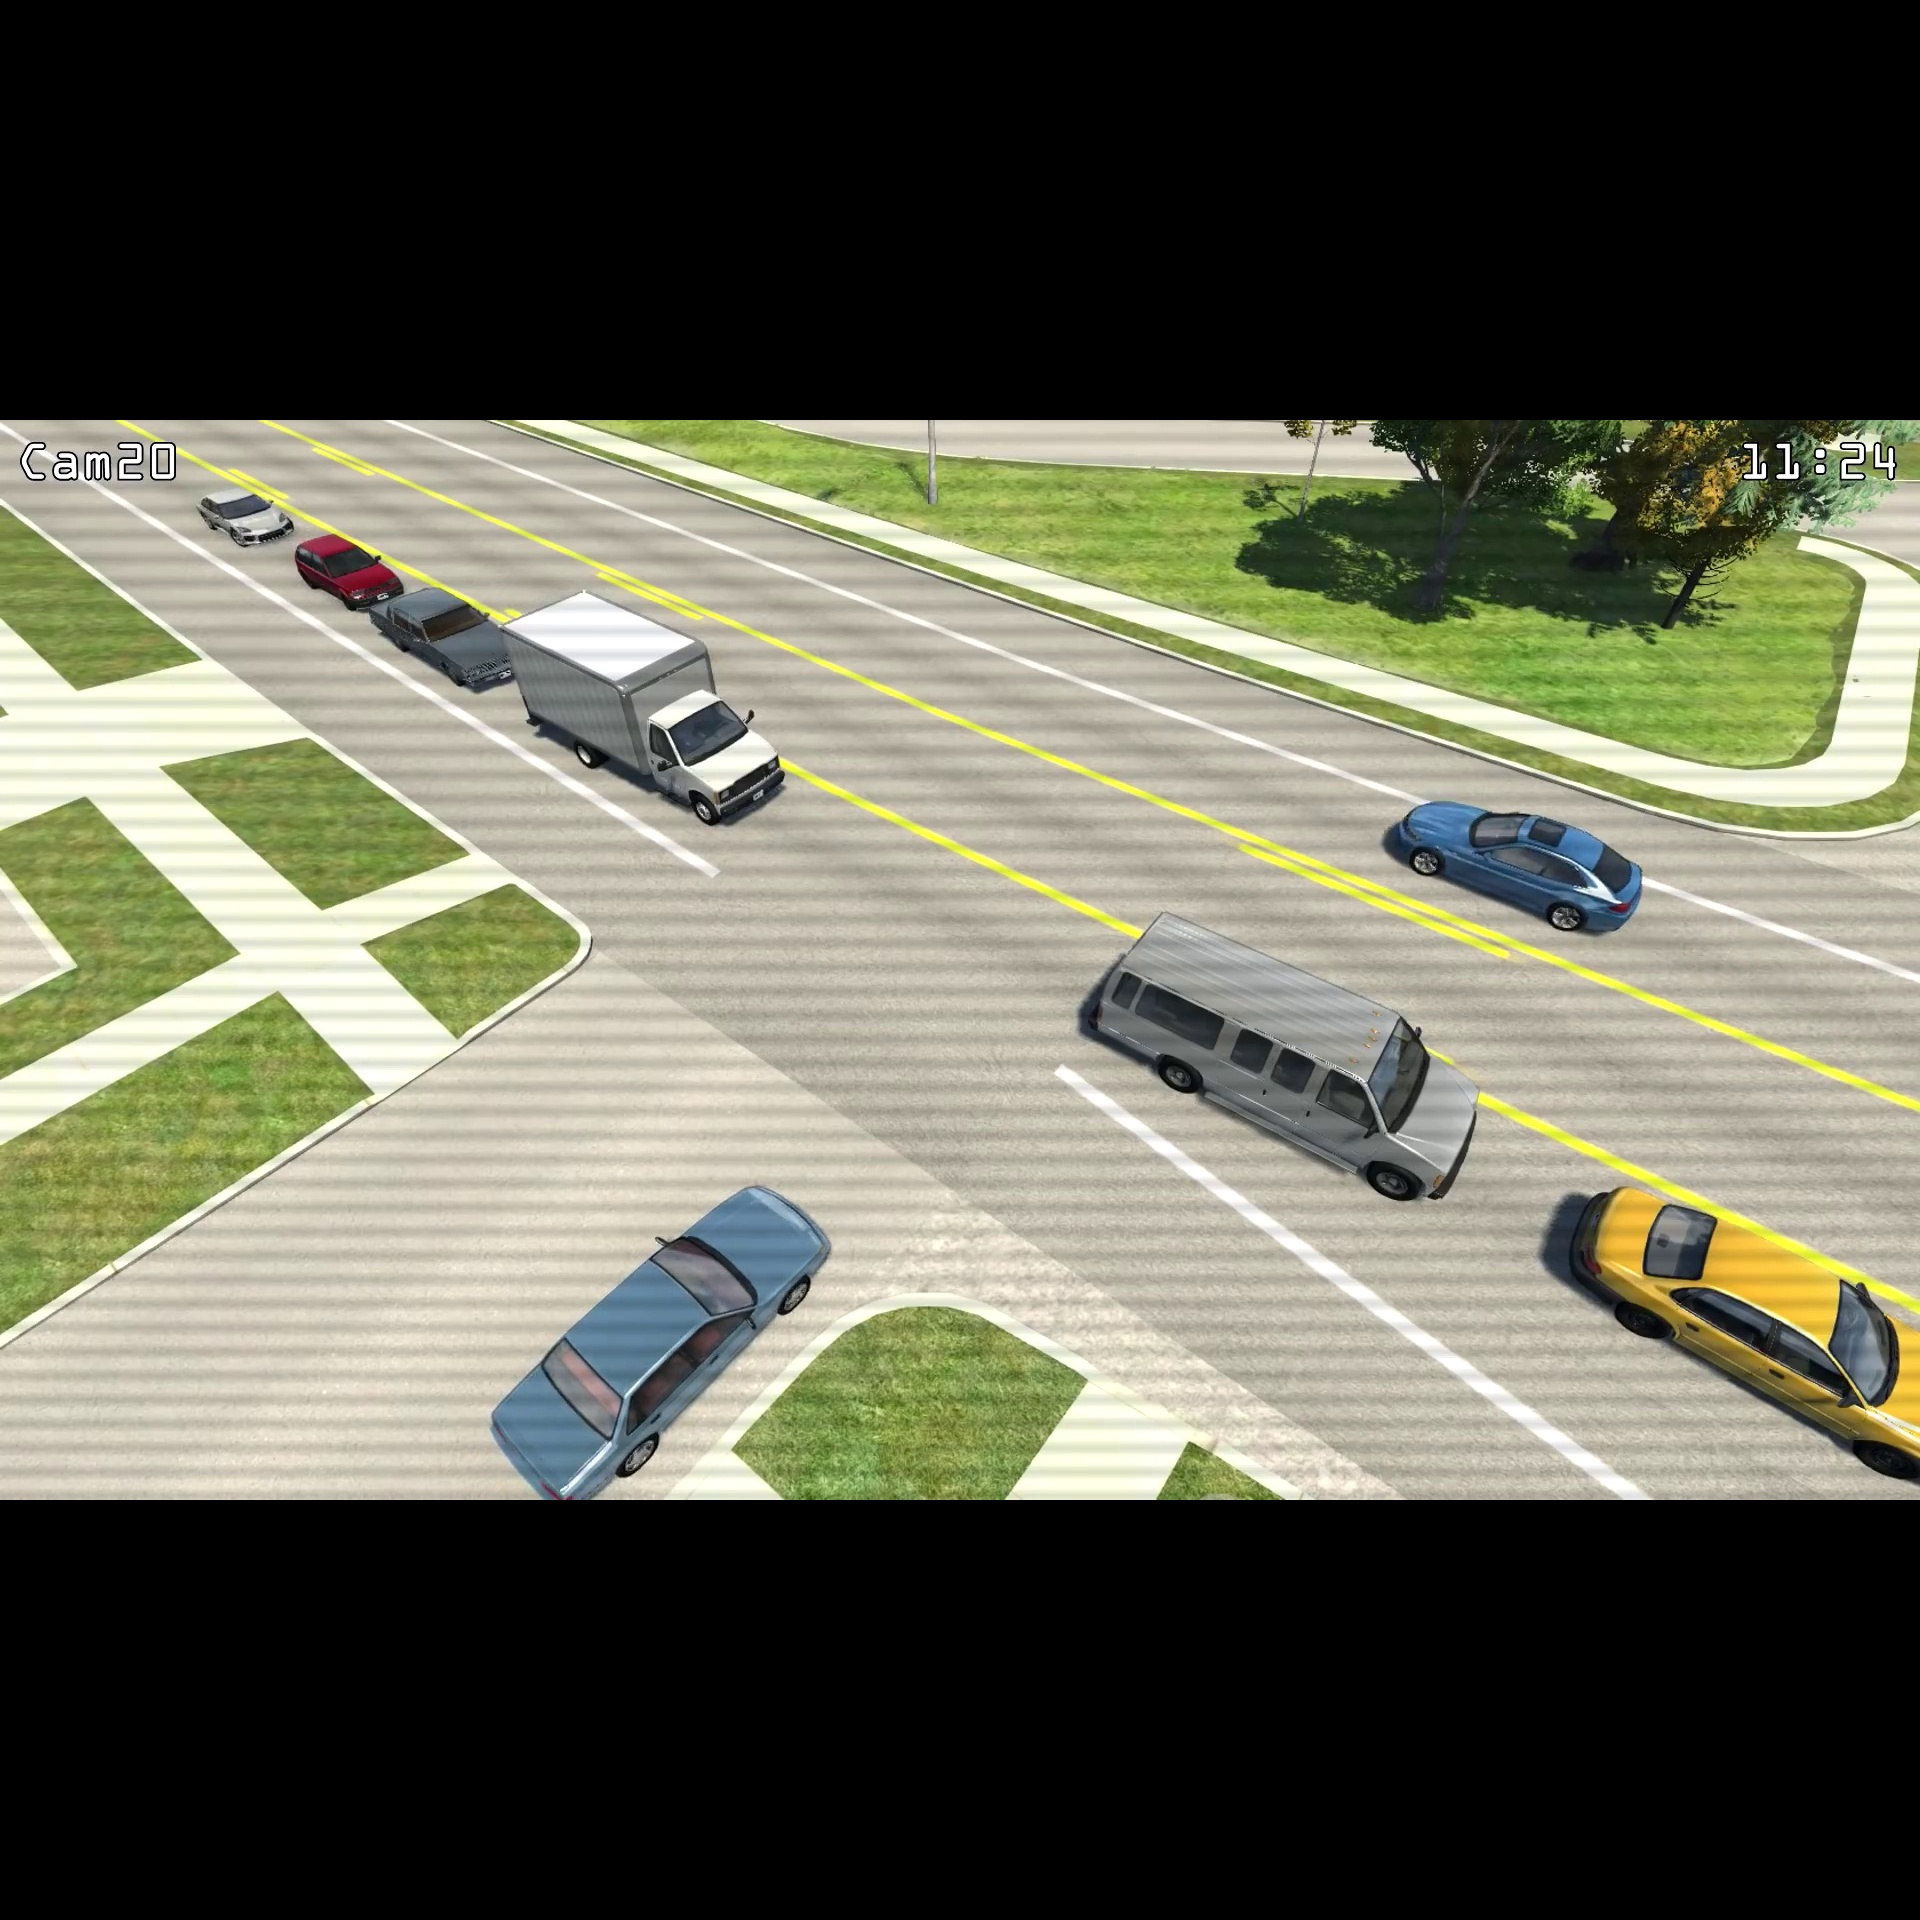vehicle: (1074, 907, 1487, 1206), (482, 1175, 842, 1502), (1560, 1169, 1920, 1486), (499, 580, 791, 833), (1387, 789, 1651, 942), (369, 577, 519, 695), (287, 527, 410, 617), (192, 480, 297, 549)
